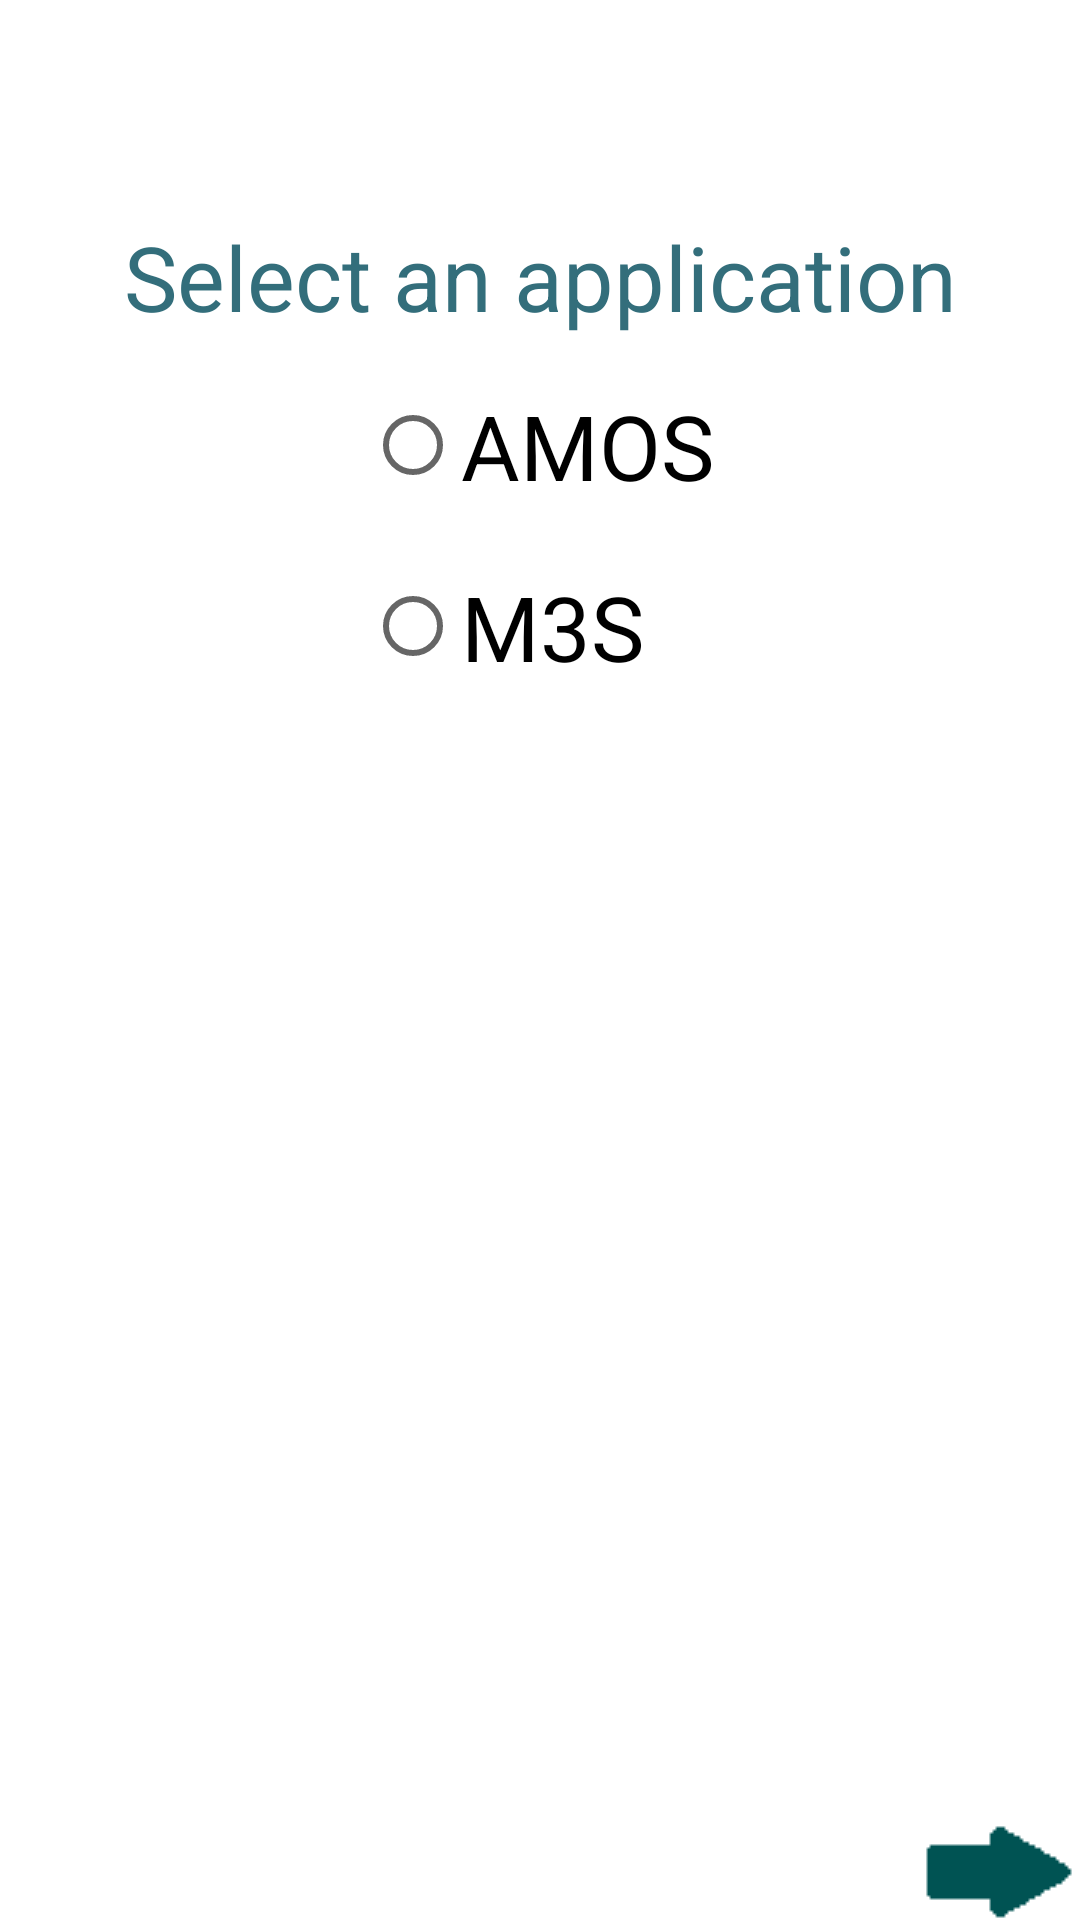

Where to tap for icons on this 1080px x 1920px app screen, as (x=x, y=y):
next: (x=999, y=1872)
